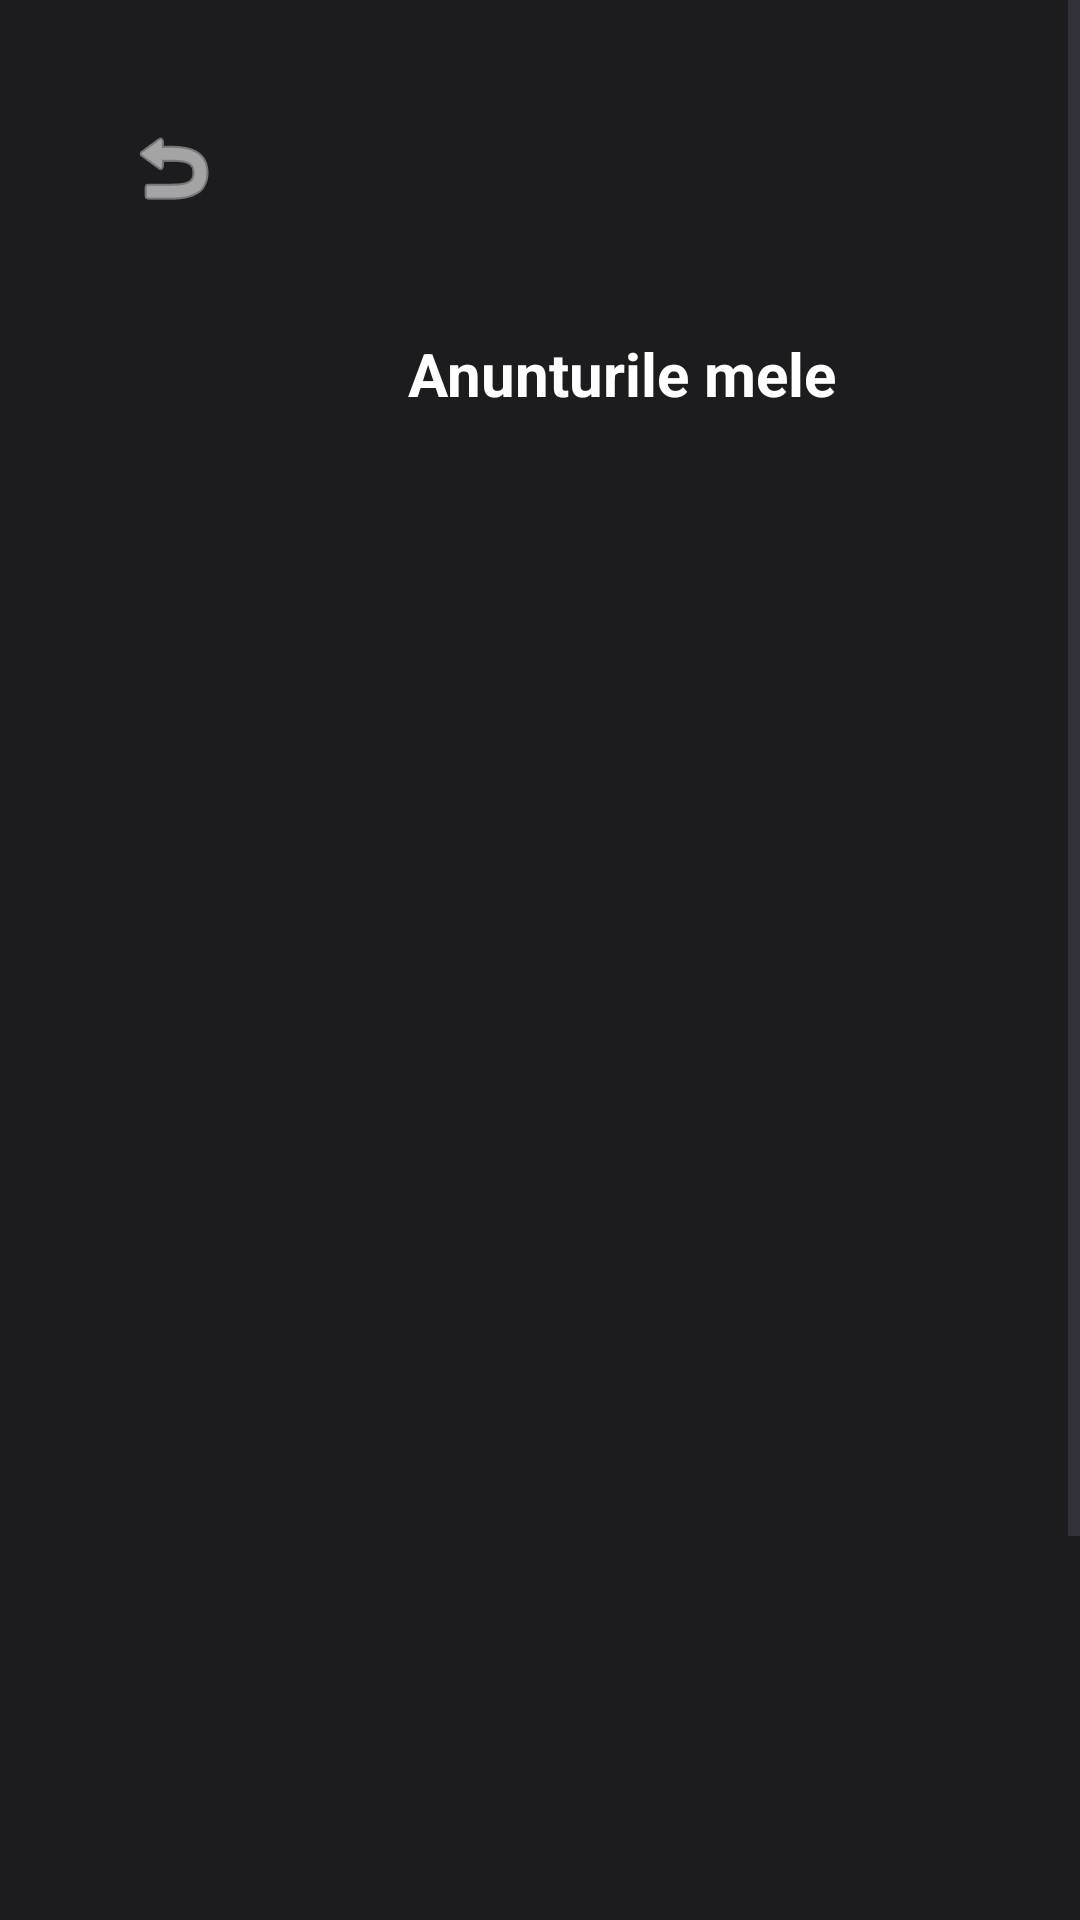

Icons on this 1080*1920 Android screen, each with the point to tap as (x,y):
Înapoi: (174,168)
